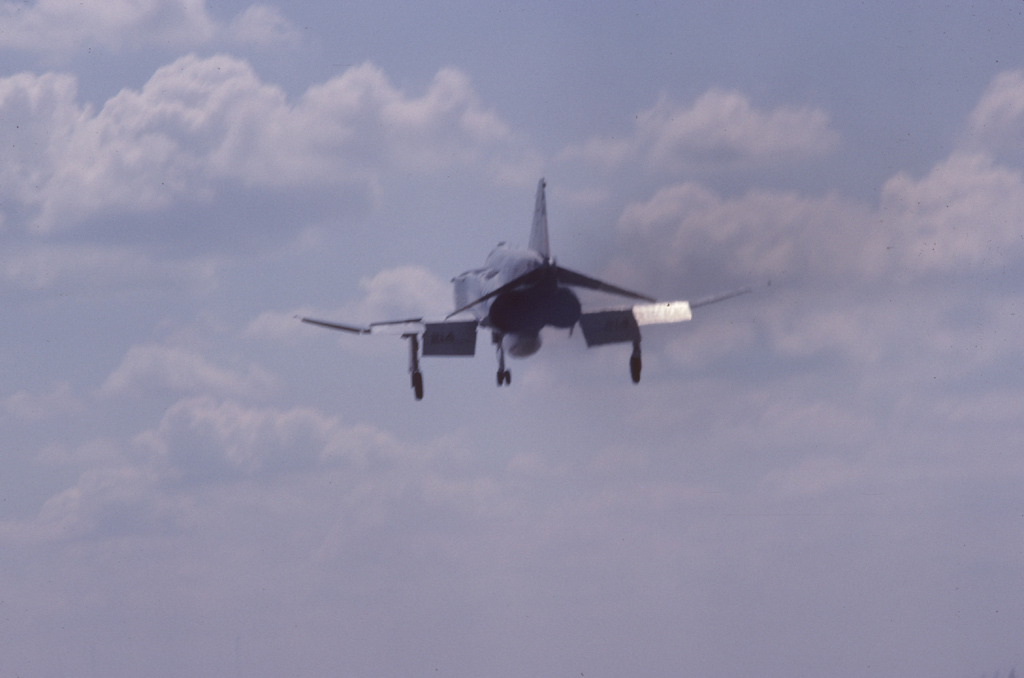F4: (291, 176, 773, 402)
